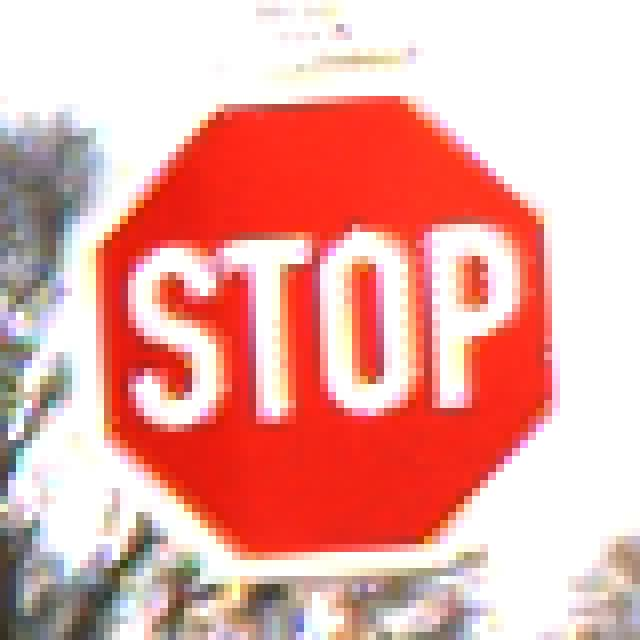STOP: (65, 65, 585, 585)
